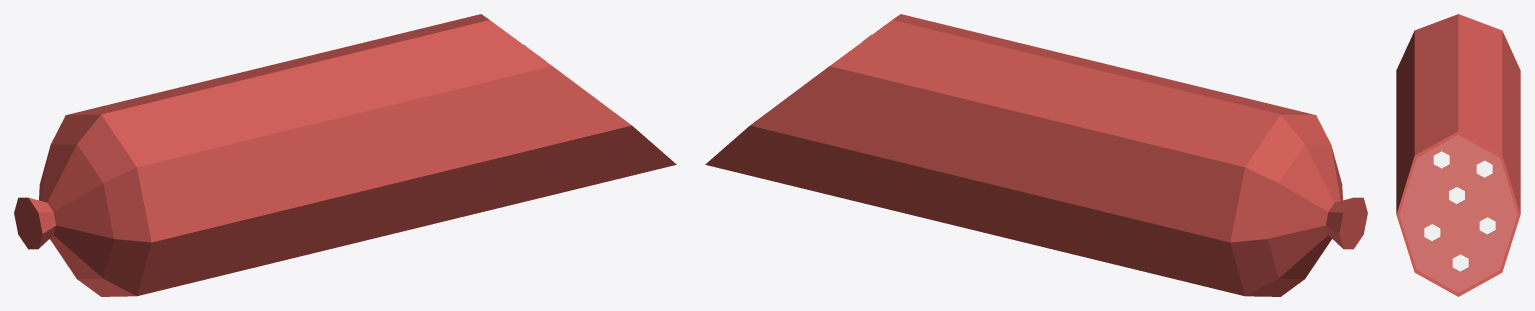
The model's file is Sausage_01.fbx.
3 views of the same model, side by side, from view 1: azimuth 30°, elevation 25°; view 2: azimuth 150°, elevation 25°; view 3: azimuth 270°, elevation 25° (orthographic). The views are drawn at different scales.
Visible parts, largest first — view 1: Sausage_01; view 2: Sausage_01; view 3: Sausage_01.
Part boxes in pixels (bbox=[...]): Sausage_01: bbox=[14, 14, 676, 296]; Sausage_01: bbox=[705, 14, 1367, 296]; Sausage_01: bbox=[1396, 14, 1520, 296].
Bounding box in the file's own units: 19.45 × 5.31 × 5.3.
